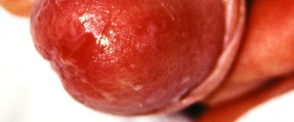SJS-TEN: (22, 0, 258, 122)
